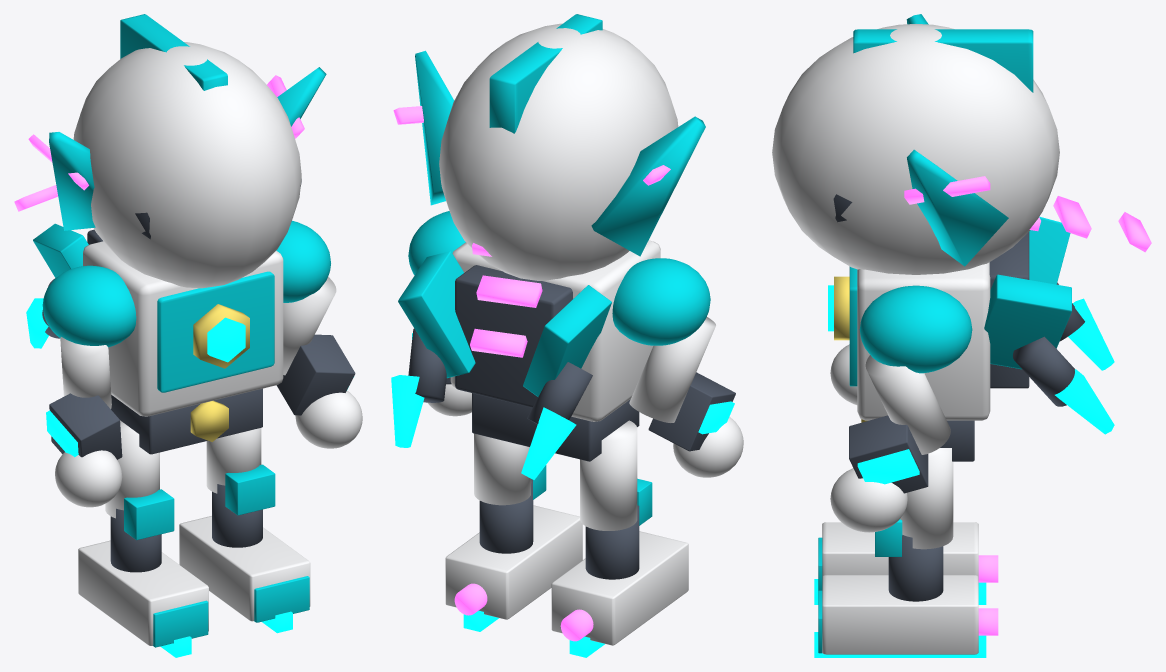
File: player.glb
The picture shows the model from 3 angles, left to right: view 1: azimuth 30°, elevation 25°; view 2: azimuth 150°, elevation 25°; view 3: azimuth 270°, elevation 25°; orthographic projection. The views are drawn at different scales.
Visible parts, largest first — view 1: Head, Torso, Leg_L, Arm_L, Leg_R, Arm_R, Scarf; view 2: Head, Torso, Leg_L, Arm_L, Leg_R, Scarf, Arm_R; view 3: Head, Torso, Leg_R, Arm_R, Leg_L, Scarf, Arm_L.
Part boxes in pixels (x1=…): Head: x1=28, y1=14, x2=326, y2=288; Torso: x1=26, y1=223, x2=283, y2=454; Leg_L: x1=78, y1=420, x2=208, y2=657; Arm_L: x1=42, y1=265, x2=136, y2=507; Leg_R: x1=179, y1=428, x2=310, y2=633; Arm_R: x1=276, y1=220, x2=362, y2=448; Scarf: x1=14, y1=185, x2=58, y2=211; Head: x1=393, y1=14, x2=705, y2=280; Torso: x1=391, y1=240, x2=660, y2=479; Leg_L: x1=551, y1=420, x2=688, y2=657; Arm_L: x1=612, y1=258, x2=743, y2=477; Leg_R: x1=445, y1=433, x2=582, y2=631; Scarf: x1=470, y1=243, x2=542, y2=357; Arm_R: x1=408, y1=211, x2=471, y2=416; Head: x1=772, y1=14, x2=1059, y2=274; Torso: x1=828, y1=216, x2=1114, y2=461; Leg_R: x1=814, y1=448, x2=998, y2=657; Arm_R: x1=830, y1=285, x2=972, y2=532; Leg_L: x1=814, y1=522, x2=998, y2=604; Scarf: x1=1029, y1=196, x2=1151, y2=252; Arm_L: x1=830, y1=344, x2=857, y2=404.
Bounding box in the file's own units: 0.94 × 1.68 × 0.971.
